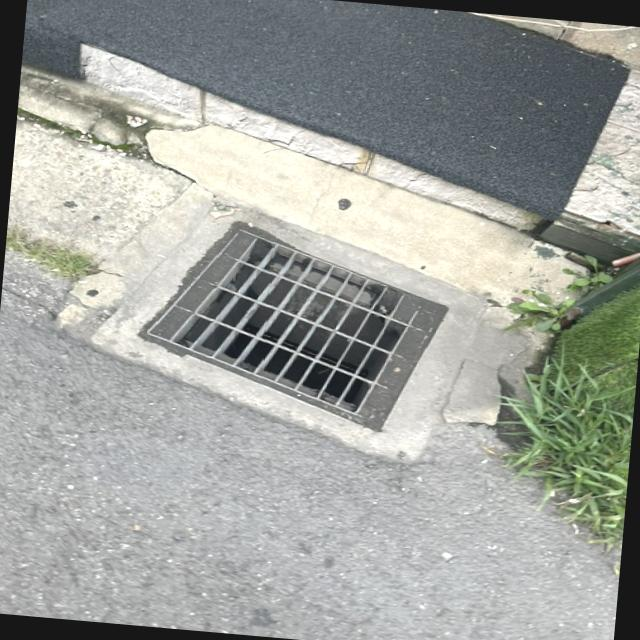drain_area: (183, 250, 400, 413)
drain_full: (146, 229, 440, 423)
